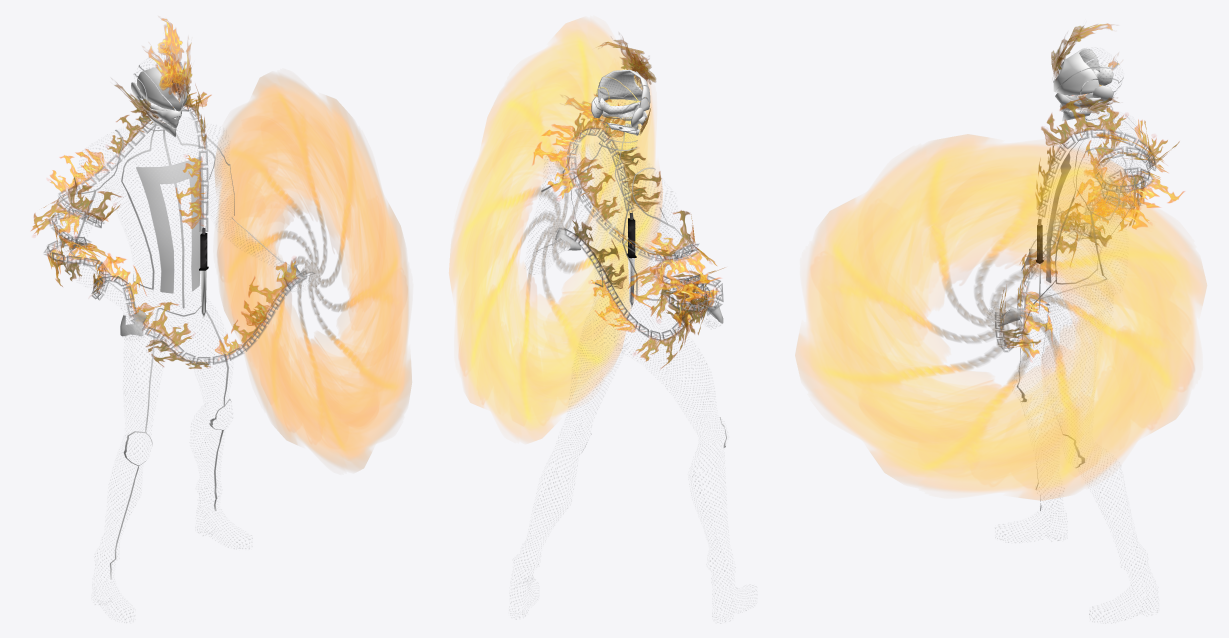
Rendered from Ghost_Rider_-_Robbie_Reyes.glb.
3 renders of one model, left to right at view 1: azimuth 30°, elevation 25°; view 2: azimuth 150°, elevation 25°; view 3: azimuth 270°, elevation 25°, orthographic. The views are drawn at different scales.
Parts seen in each view (by area): view 1: corrente_giro_corrente_giro_0, ghost_ghost_0, fogo_corrente_fogo_corrente_0, corrente_corrente_0, fogo_cabeca_fogo_cabeca_0, knife_knife_0; view 2: corrente_giro_corrente_giro_0, fogo_corrente_fogo_corrente_0, ghost_ghost_0, corrente_corrente_0, fogo_cabeca_fogo_cabeca_0, knife_knife_0; view 3: corrente_giro_corrente_giro_0, fogo_corrente_fogo_corrente_0, ghost_ghost_0, corrente_corrente_0, fogo_cabeca_fogo_cabeca_0.
Part boxes in pixels (x1,y1,x2,y2): corrente_giro_corrente_giro_0: [215, 75, 411, 469]; ghost_ghost_0: [70, 62, 305, 619]; fogo_corrente_fogo_corrente_0: [31, 85, 298, 368]; corrente_corrente_0: [44, 104, 315, 364]; fogo_cabeca_fogo_cabeca_0: [114, 18, 192, 122]; knife_knife_0: [199, 227, 208, 318]; corrente_giro_corrente_giro_0: [449, 20, 662, 440]; fogo_corrente_fogo_corrente_0: [532, 94, 724, 368]; ghost_ghost_0: [521, 69, 726, 603]; corrente_corrente_0: [555, 127, 723, 340]; fogo_cabeca_fogo_cabeca_0: [565, 37, 655, 134]; knife_knife_0: [627, 213, 636, 308]; corrente_giro_corrente_giro_0: [795, 134, 1206, 500]; fogo_corrente_fogo_corrente_0: [1000, 97, 1184, 357]; ghost_ghost_0: [998, 48, 1144, 619]; corrente_corrente_0: [994, 129, 1156, 351]; fogo_cabeca_fogo_cabeca_0: [1051, 23, 1119, 113].
Size of the model in its own units: 488 by 1092 by 752.
Materials: 6 (6 with a texture image).
